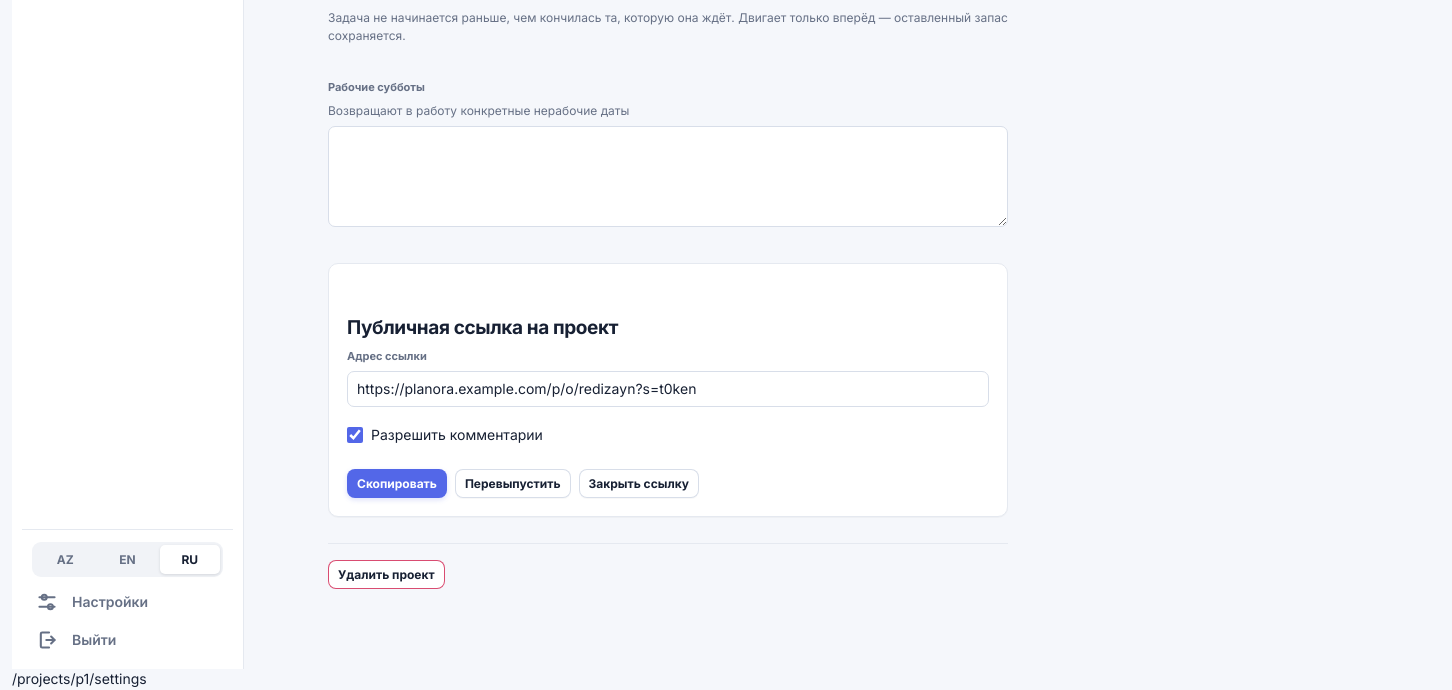
подтверждения тихих операций › отзыв публичной ссылки подтверждается: панель после него выглядит как до публикации
(page scrolled)
Click the button "Закрыть ссылку" at (639, 484), box [578,470,699,498]
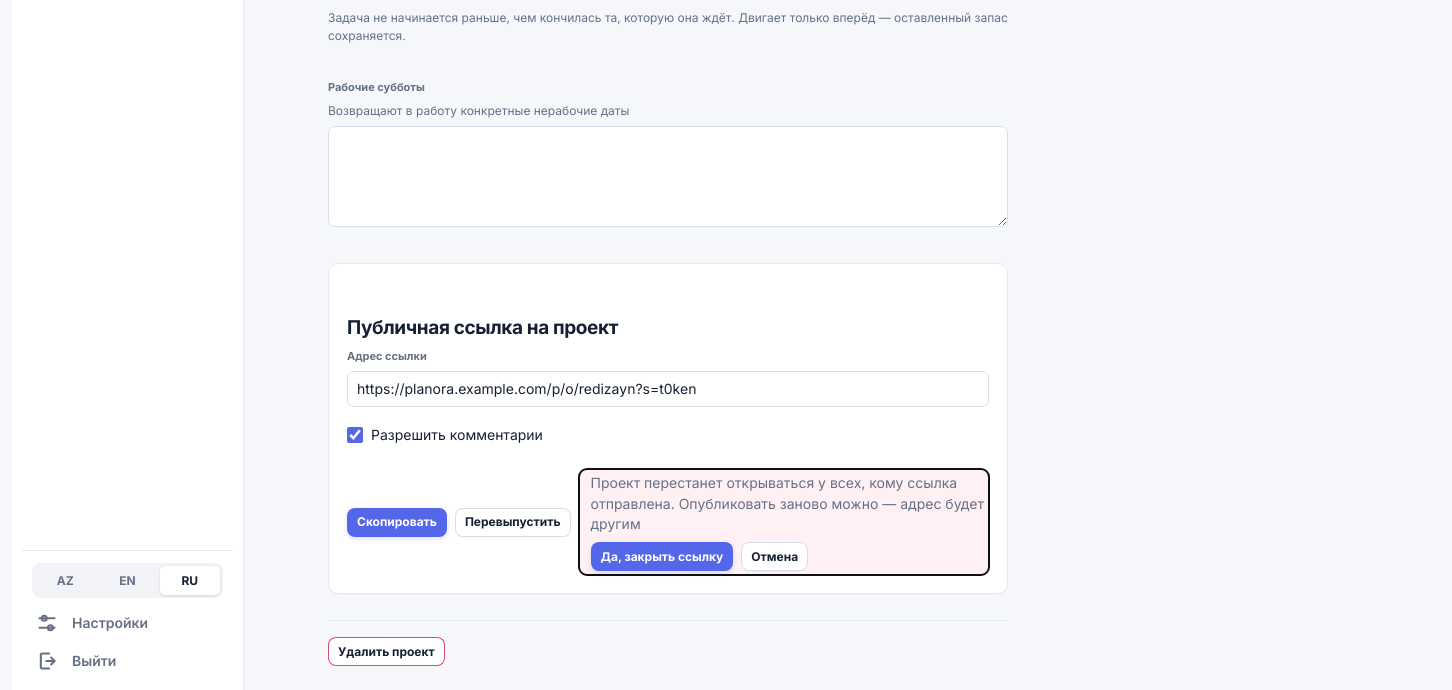
# Кнопка сперва спрашивает: отзыв гасит уже разосланный адрес.
Click the button "Да, закрыть ссылку" at (662, 557), box [590,542,733,571]
(page scrolled)
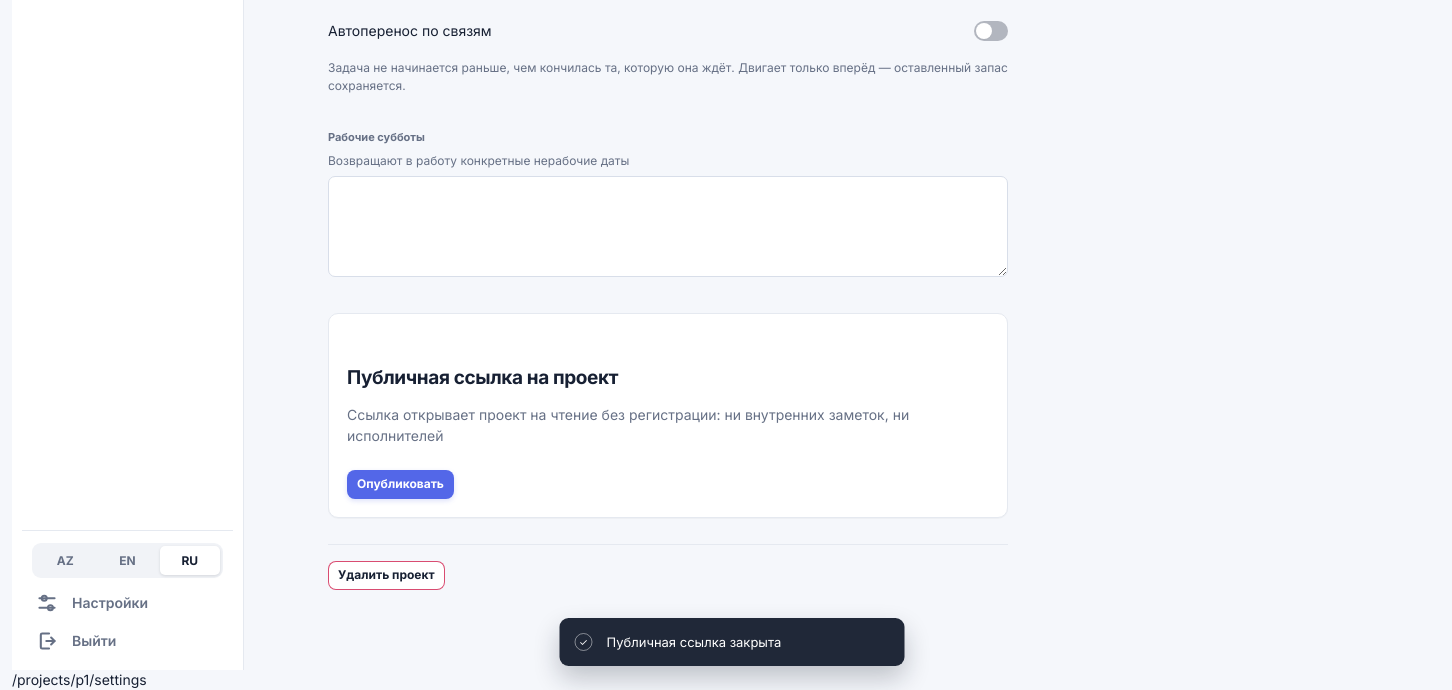
Expected: the text "Публичная ссылка закрыта" is shown, [606,634,781,650]
